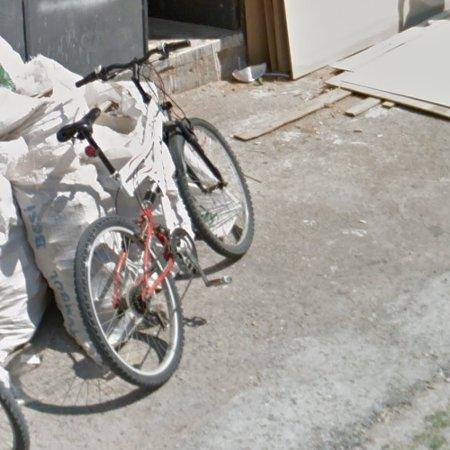bicycles: (57, 40, 254, 389)
